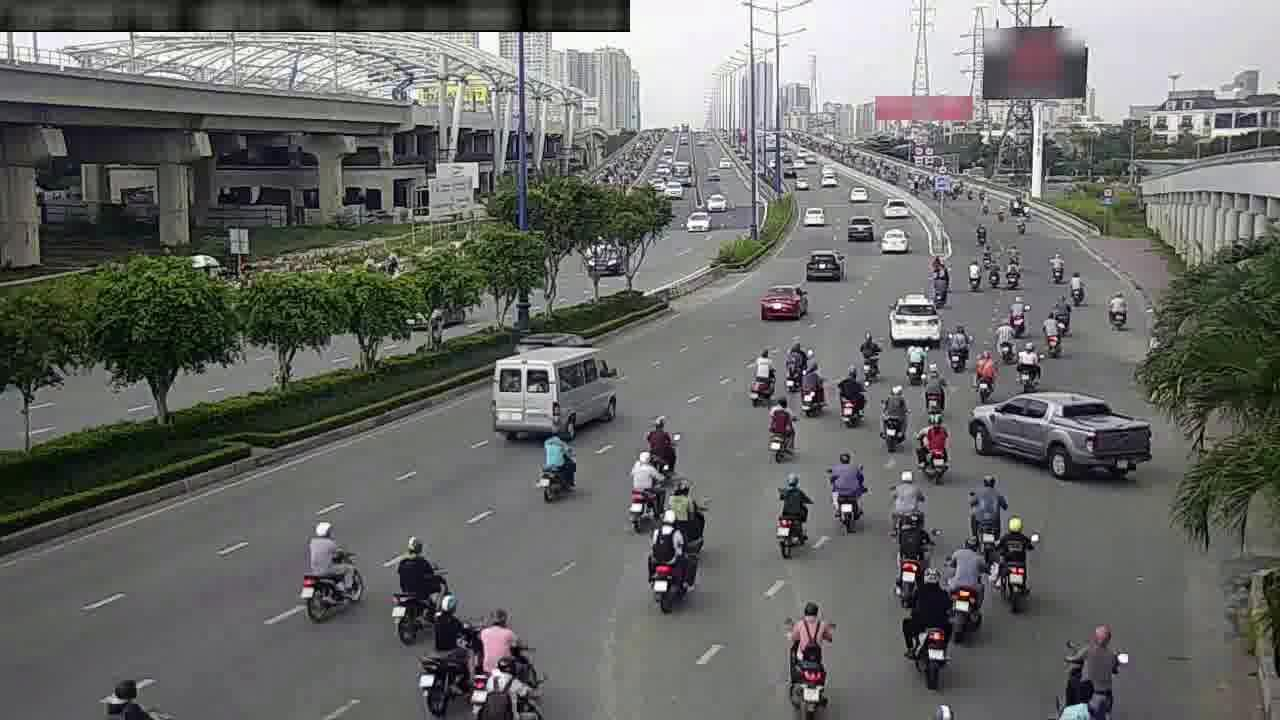car: (976, 382, 1151, 483), (882, 293, 941, 340), (756, 281, 807, 322), (800, 244, 845, 281)
motorbike: (296, 522, 368, 624), (383, 536, 448, 633), (1057, 622, 1129, 704), (418, 597, 470, 705), (902, 583, 960, 677), (641, 517, 701, 607), (781, 605, 833, 702), (478, 604, 525, 687), (767, 473, 815, 554), (531, 429, 583, 502), (823, 452, 870, 531), (990, 515, 1035, 596), (943, 541, 983, 626), (619, 456, 664, 530), (660, 480, 708, 547), (890, 519, 934, 588), (963, 473, 1006, 540), (638, 415, 682, 478), (884, 467, 927, 527), (912, 416, 952, 477), (873, 385, 910, 447), (759, 397, 797, 457), (832, 367, 868, 424), (744, 350, 776, 404), (917, 368, 950, 418), (1010, 339, 1042, 390), (969, 350, 999, 404), (851, 330, 884, 379), (940, 322, 972, 372), (801, 359, 828, 418), (899, 334, 930, 382), (1101, 285, 1133, 331), (778, 342, 808, 389), (988, 315, 1018, 361), (1038, 312, 1065, 357), (1002, 293, 1030, 334), (1063, 268, 1089, 306), (960, 254, 986, 292), (1050, 296, 1076, 333), (1043, 248, 1067, 284), (1000, 256, 1024, 290), (983, 256, 1006, 290), (932, 267, 951, 305)
passenger_car: (488, 347, 623, 437)
